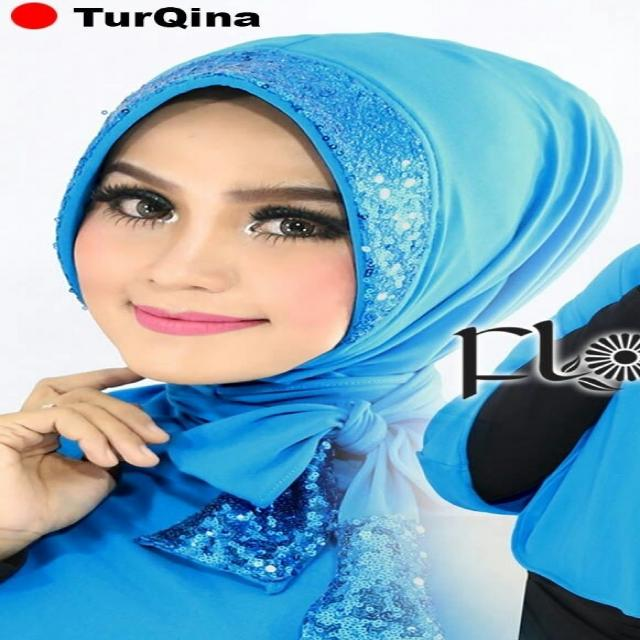head: (55, 30, 622, 391)
